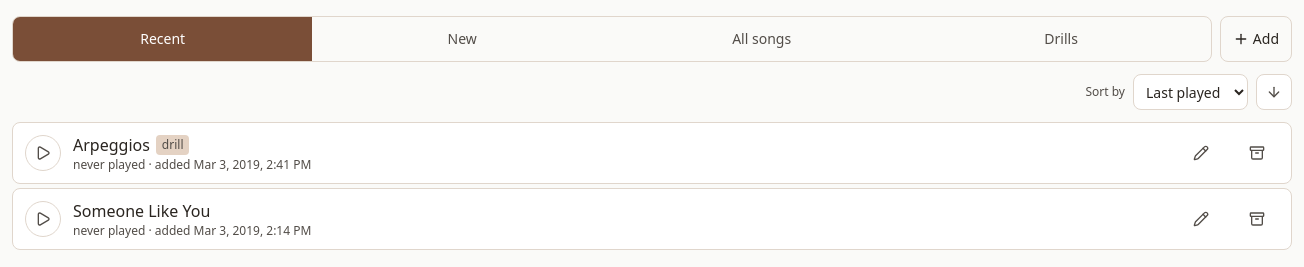
BrowseTabs — created-at caption › New tab shows when the song was added
Step 1. Click the button "New" → point(462, 39), box [312, 17, 612, 61]
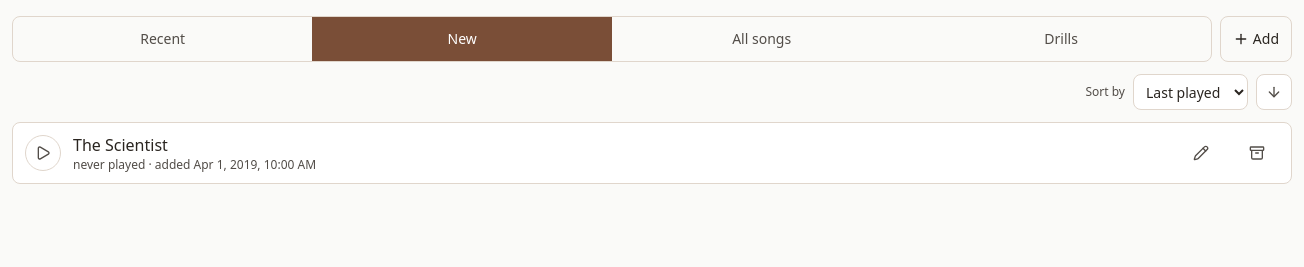
Check: the text "never played · added Apr 1, 2019, 10:00 AM" is shown, box [73, 156, 316, 173]
